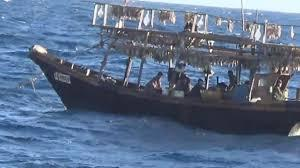Ship: (23, 1, 300, 144)
